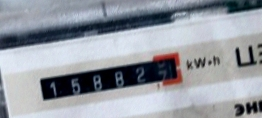1: (49, 76, 61, 96)
2: (136, 62, 149, 82)
5: (71, 74, 84, 93)
7: (158, 66, 171, 79)
8: (91, 70, 106, 89), (114, 66, 127, 86)
screen: (32, 46, 191, 108)
